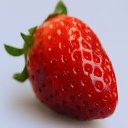strawberry: (4, 13, 119, 119)
